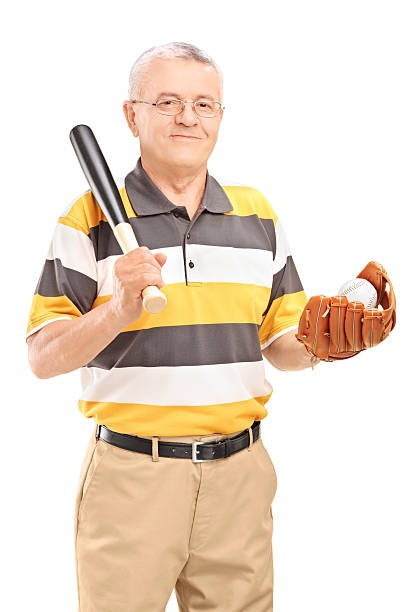bita: (61, 115, 162, 308)
